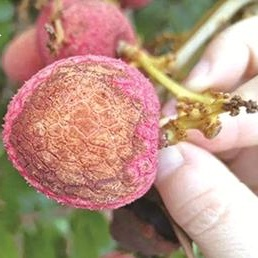Frost_Blight: (5, 66, 156, 192)
